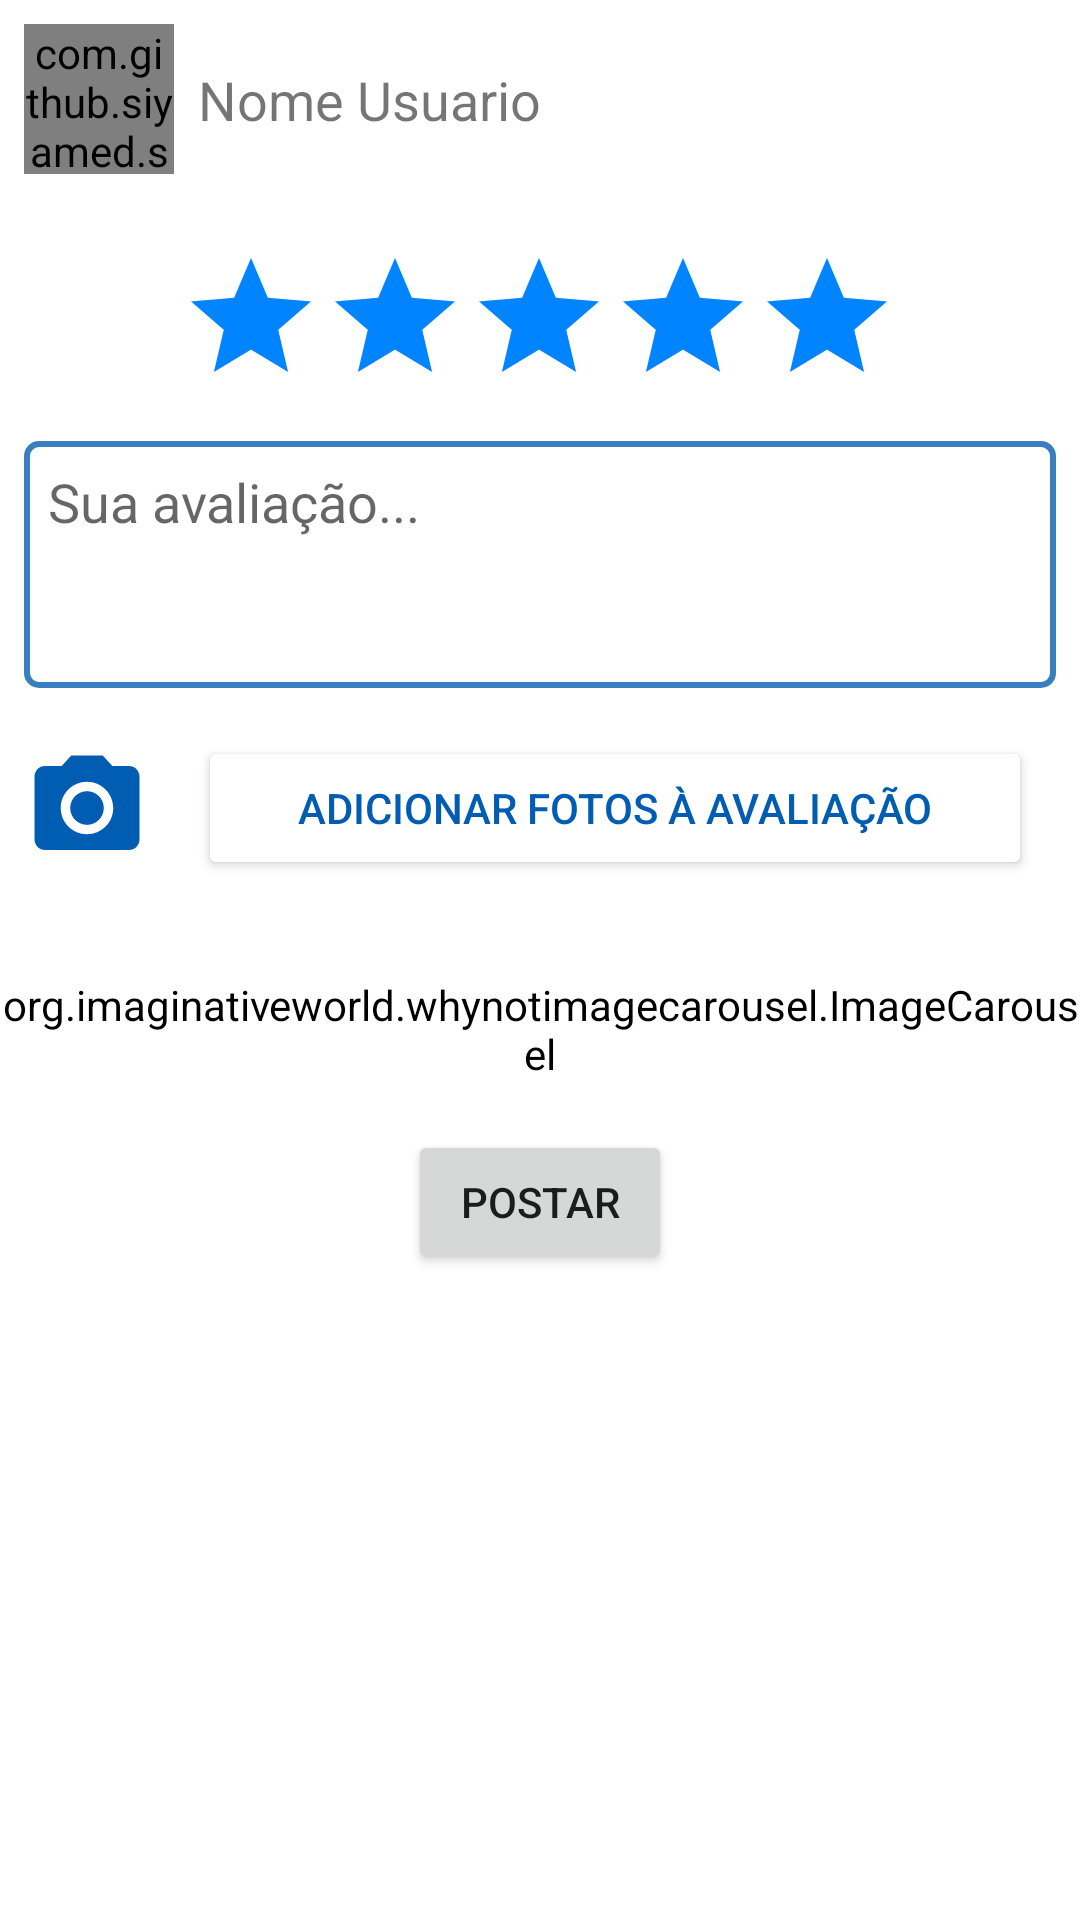

Named icons in this screenshot (1080×1920) and their bounding boxes, (x1, y1, x2, y2):
photo camera: (34, 755, 140, 850)
